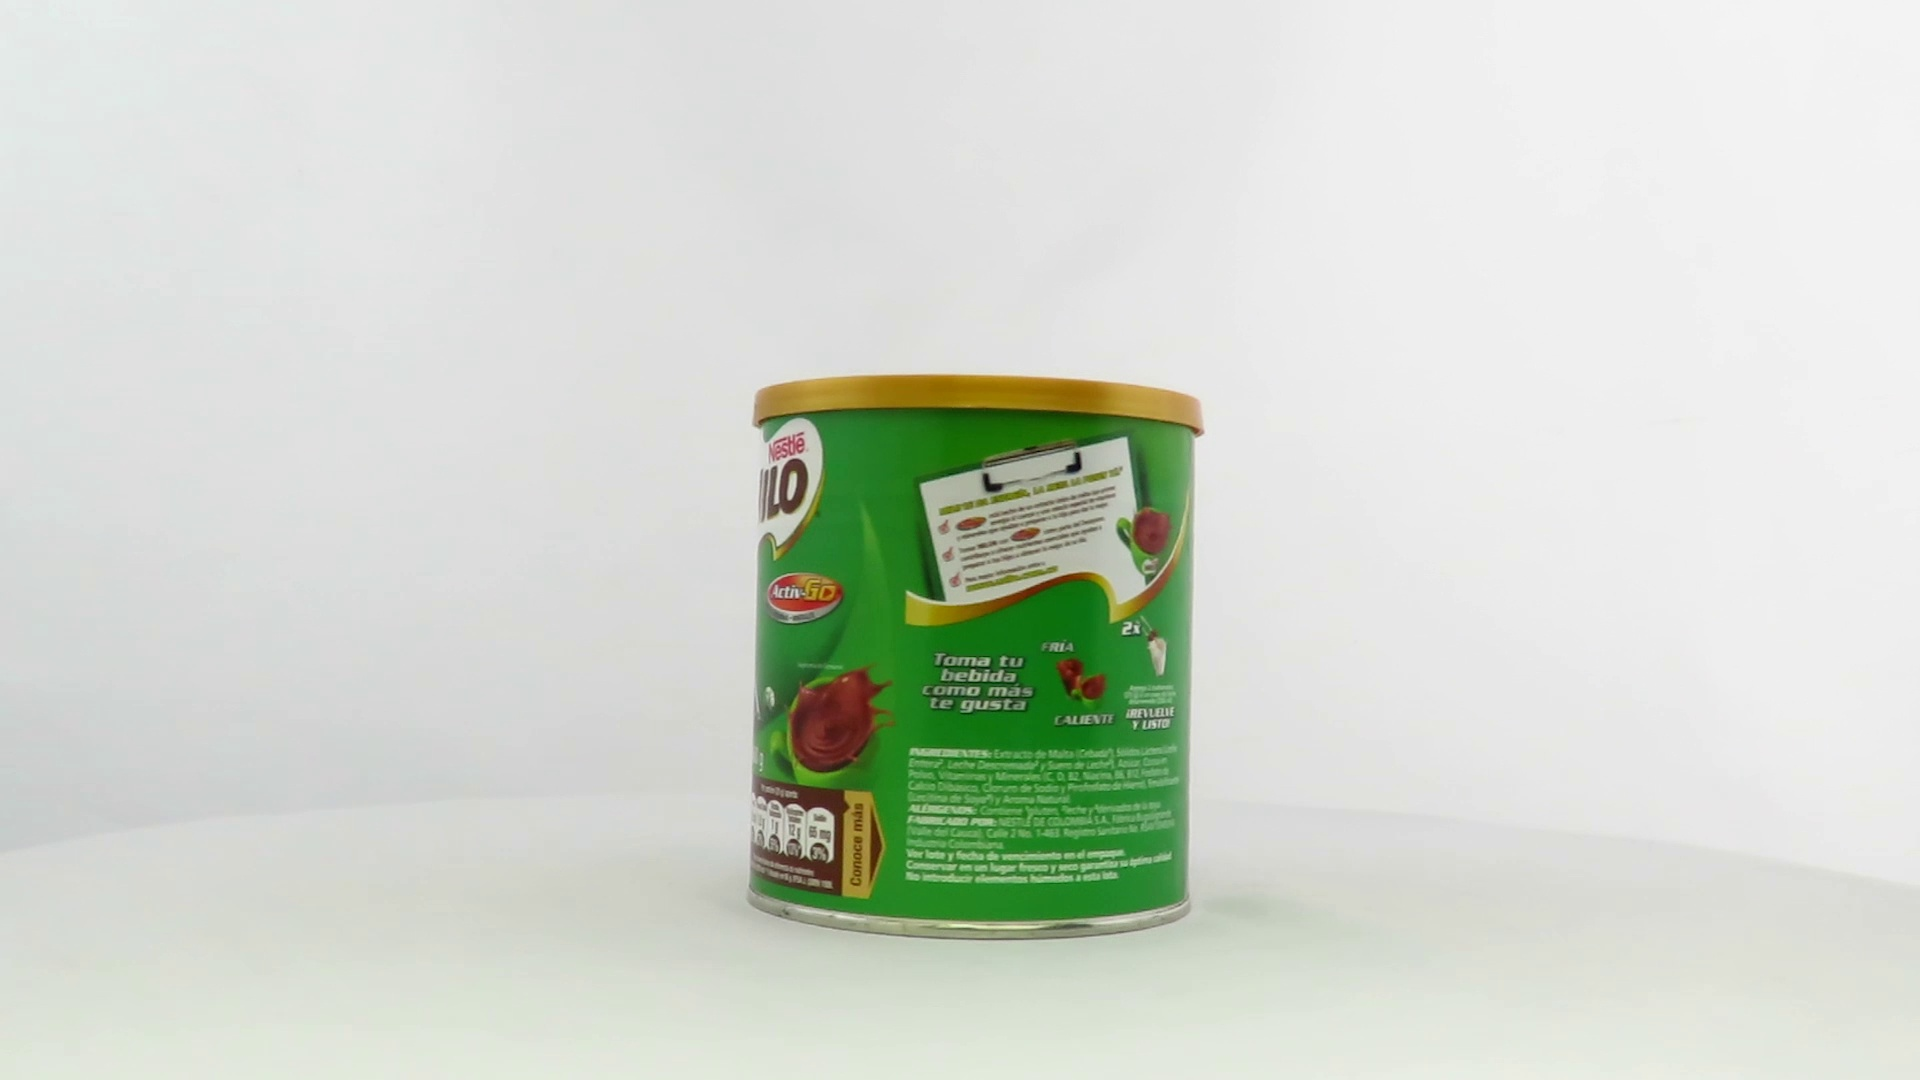COL0170203LAT40000: (741, 369, 1211, 947)
